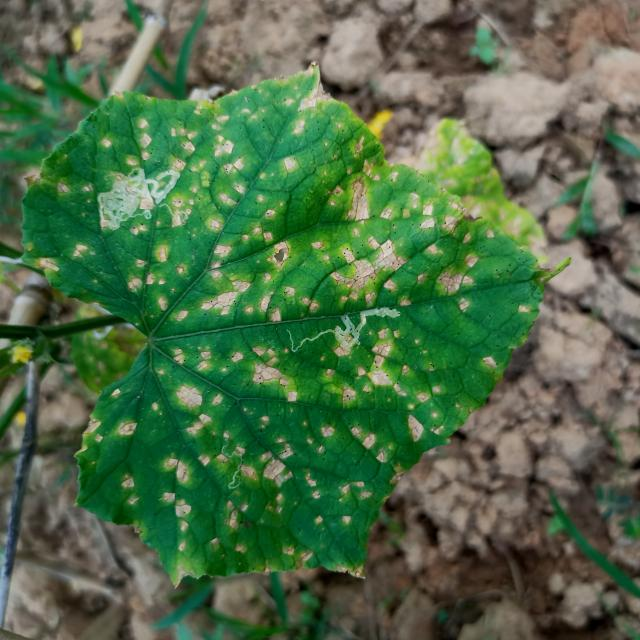disease_cucumber: (70, 92, 500, 559)
